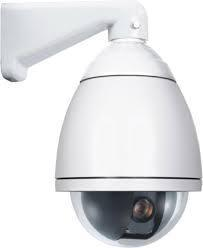maru: (54, 176, 201, 246)
